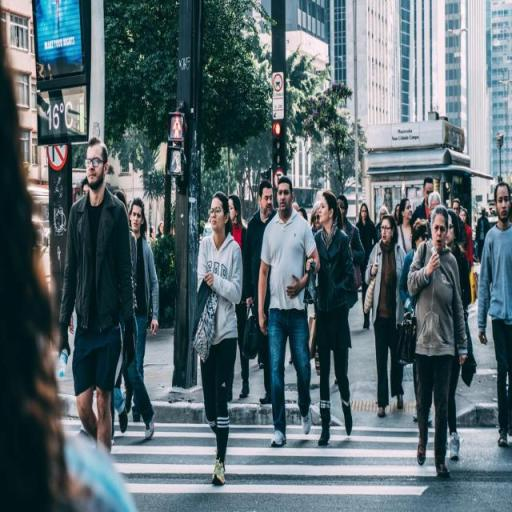person: (62, 140, 135, 479), (261, 180, 316, 448), (409, 209, 460, 476), (199, 194, 243, 485), (313, 192, 357, 450), (478, 182, 512, 449), (366, 214, 409, 418), (128, 201, 162, 429), (246, 179, 277, 408), (446, 214, 471, 464), (227, 196, 255, 401), (357, 201, 377, 331), (477, 209, 491, 263)
